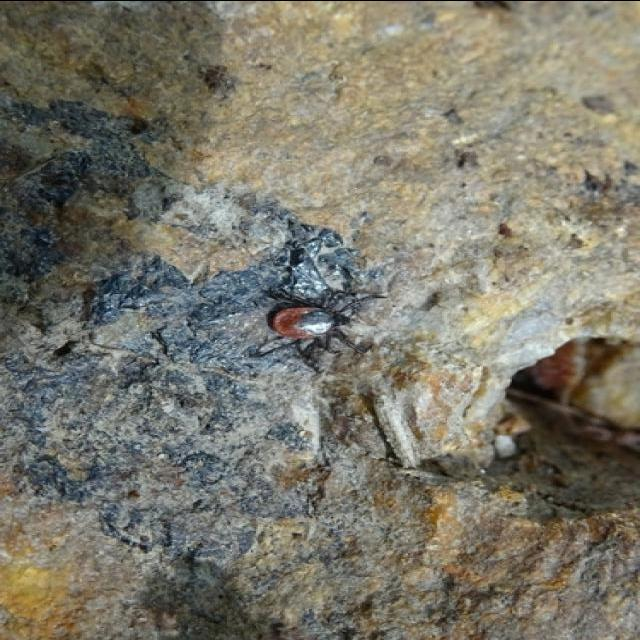Ixodes Ricinus-F: (256, 282, 386, 355)
